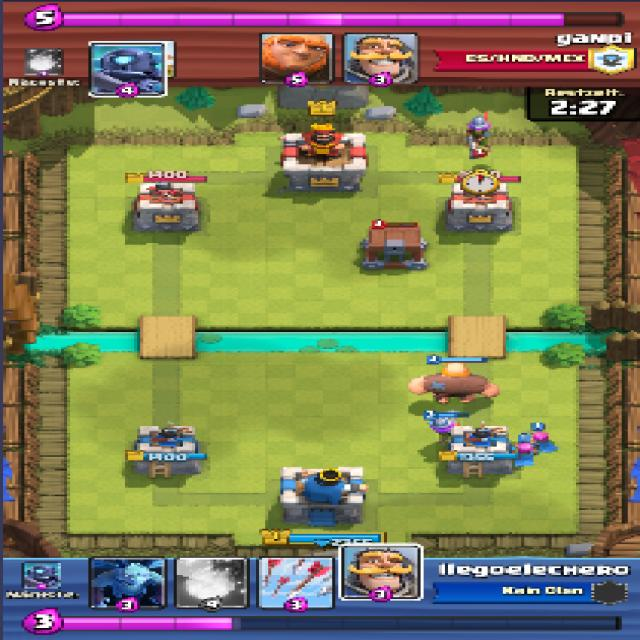Enemy-Musketeer: (464, 114, 497, 158)
Player-Archer: (510, 440, 540, 467), (530, 431, 554, 450)
Player-Giant: (411, 361, 498, 403)
Player-GoblinCage: (357, 225, 431, 270)
Player-Musketeer: (425, 413, 458, 434)
